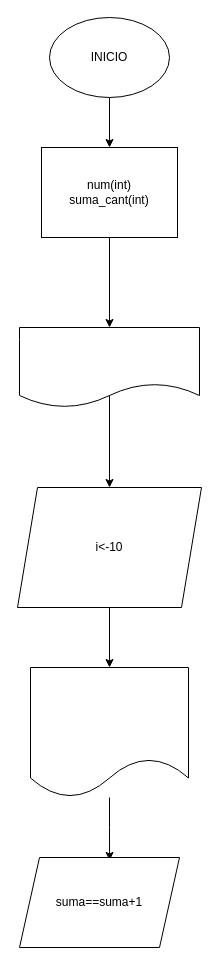
Image size: 219x965. Some labels were removed from this diagram. Each missing label, with the box of its shape:
"Ingresa diez cantidades": (18, 326, 200, 408)
"Ingresa un número": (30, 666, 188, 798)
